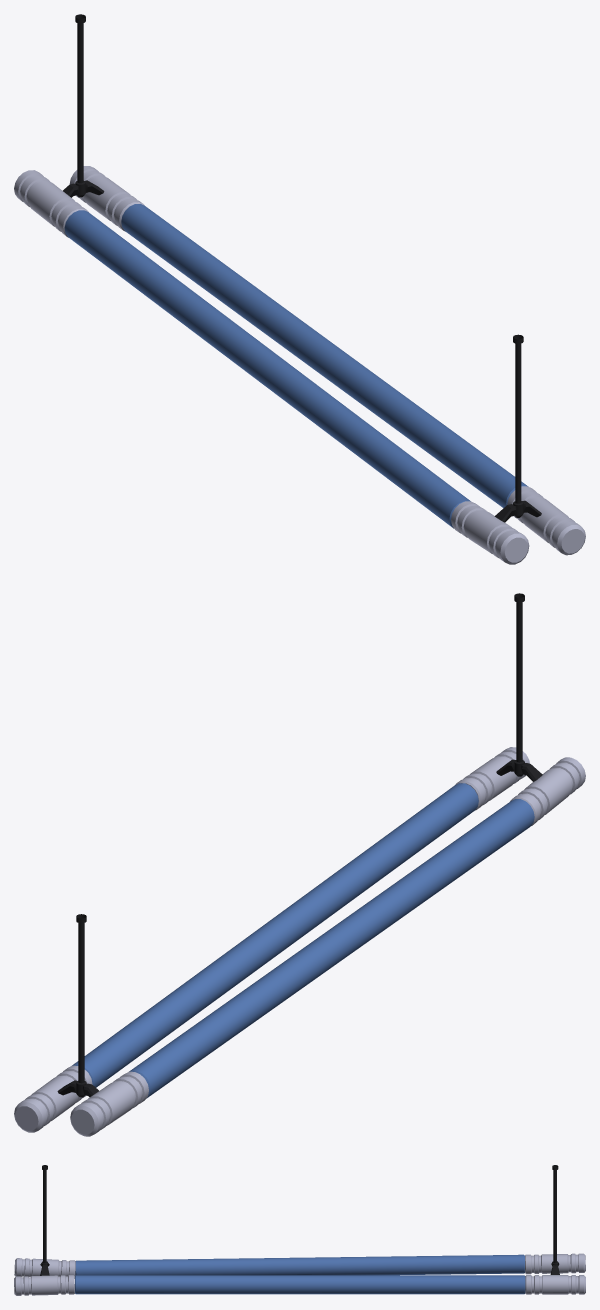
File: Light_Tube_01_DoubleBrokenCeiling.fbx
3 views of the same model, one above another, from view 1: azimuth 30°, elevation 25°; view 2: azimuth 150°, elevation 25°; view 3: azimuth 270°, elevation 25° (orthographic). The views are drawn at different scales.
Parts seen in each view (by area): view 1: Light_Tube_01_DoubleBrokenCeiling.001; view 2: Light_Tube_01_DoubleBrokenCeiling.001; view 3: Light_Tube_01_DoubleBrokenCeiling.001.
Part boxes in pixels (x1,y1,x2,y2): Light_Tube_01_DoubleBrokenCeiling.001: (14,14,585,564); Light_Tube_01_DoubleBrokenCeiling.001: (14,593,585,1136); Light_Tube_01_DoubleBrokenCeiling.001: (14,1165,585,1295).
Size of the model in its own units: 0.2154 by 0.4979 by 2.14.
